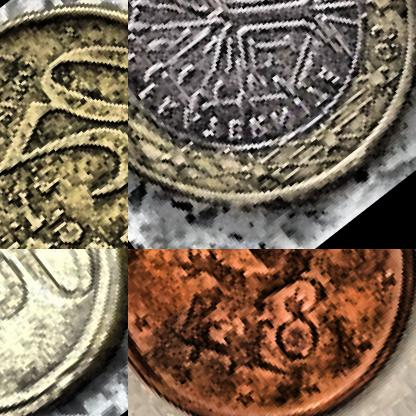coin: (128, 0, 415, 248), (128, 249, 415, 415), (0, 0, 127, 248), (0, 249, 127, 415)
